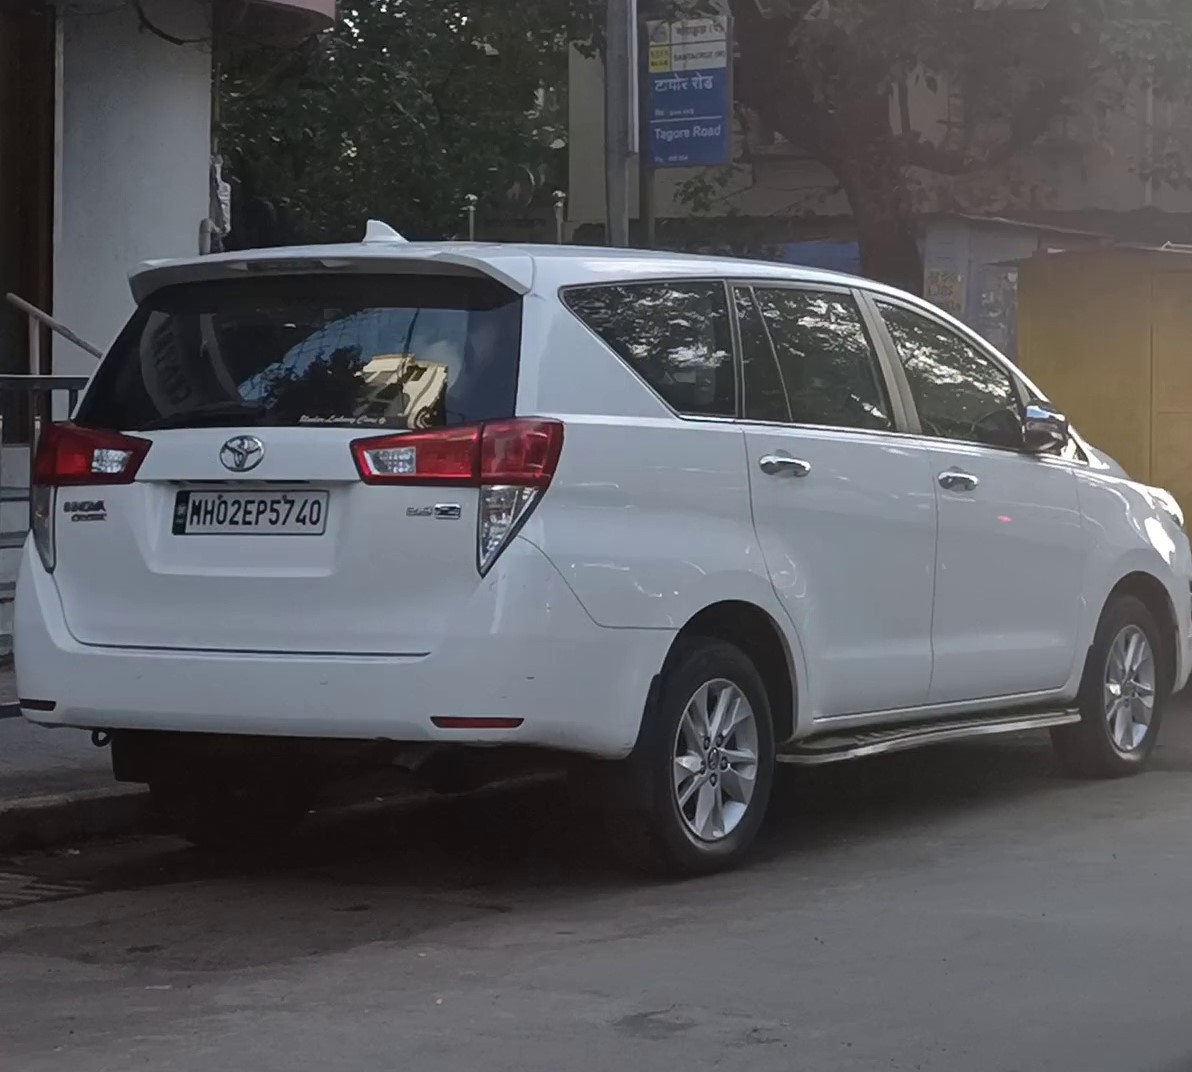MH02EP5740: (171, 487, 330, 536)
